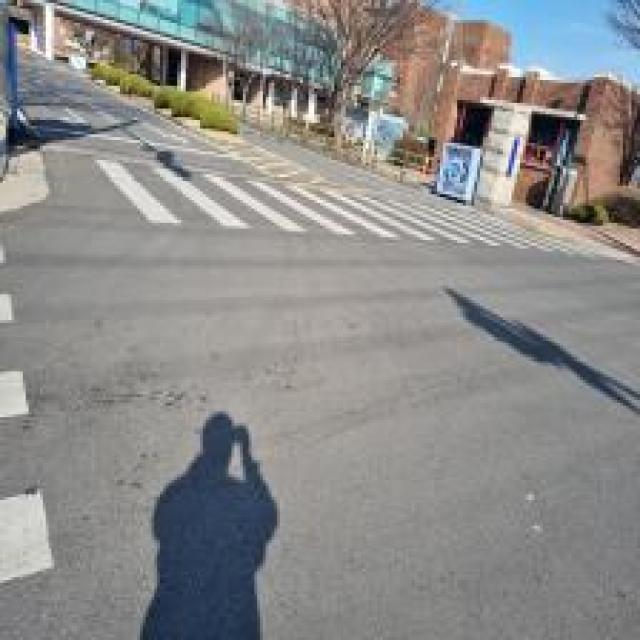zebra: (106, 147, 583, 262)
